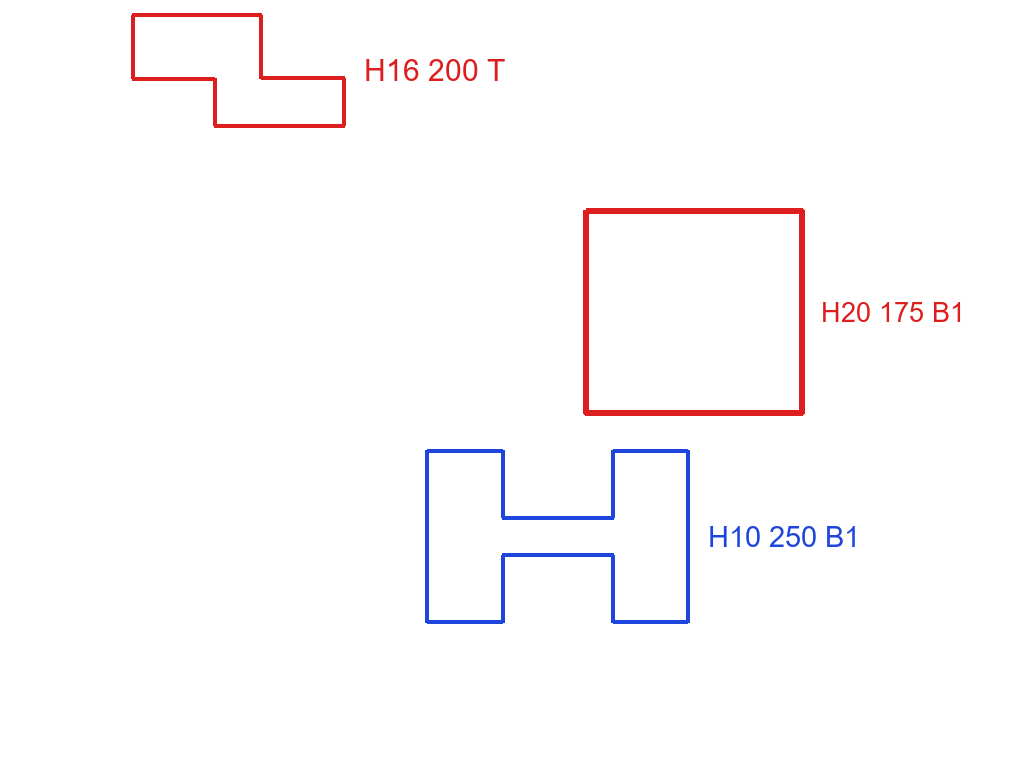shape: (424, 447, 692, 627), (582, 205, 806, 419), (128, 11, 348, 129)
text: (706, 524, 862, 549), (362, 57, 507, 83), (819, 300, 967, 324)
